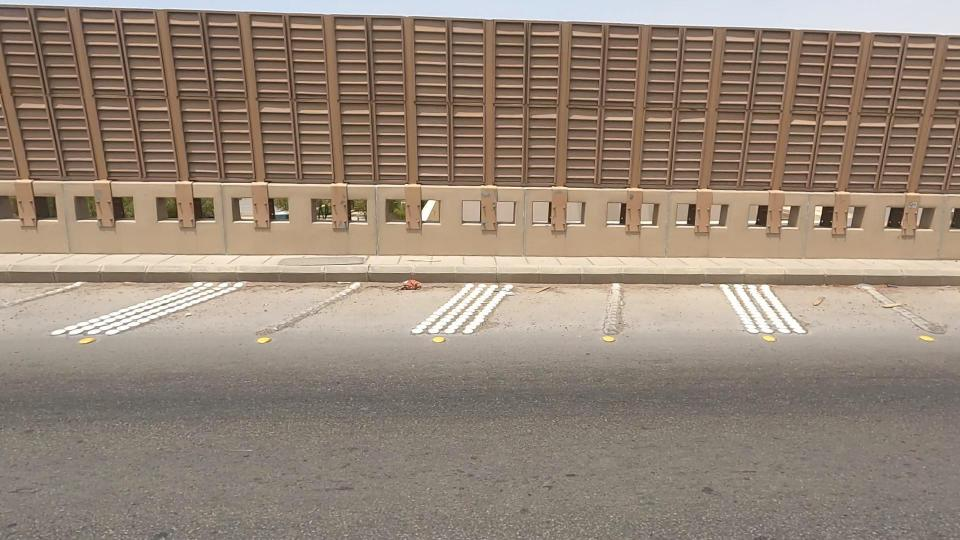GARBAGE: (373, 253, 452, 314)
